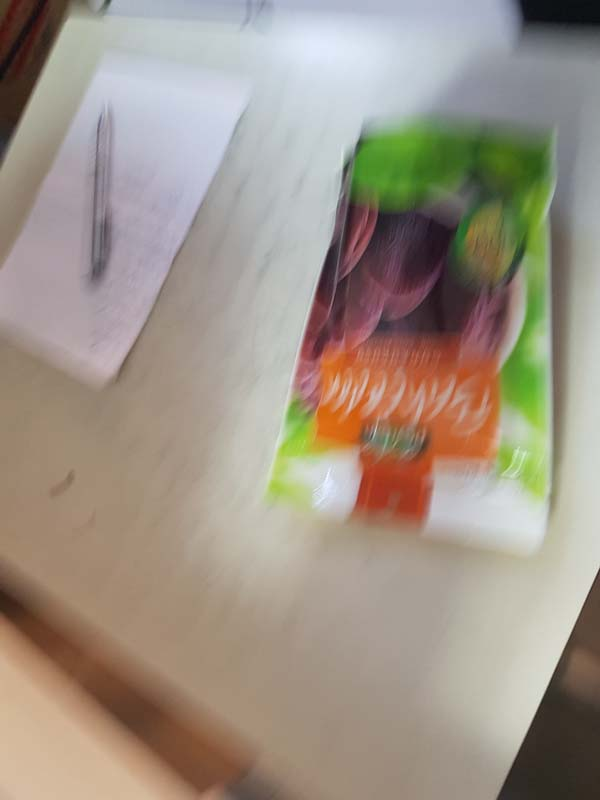bahcedengunkurusu: (268, 99, 565, 562)
